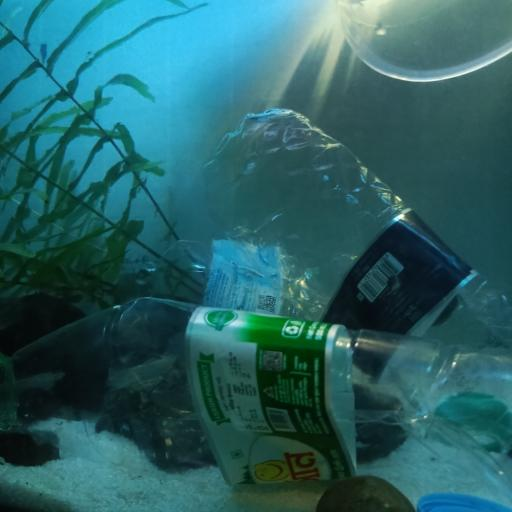plastic_bottle: (1, 296, 512, 498), (199, 108, 506, 408), (134, 235, 299, 309)
plastic_cup: (331, 0, 512, 81)
